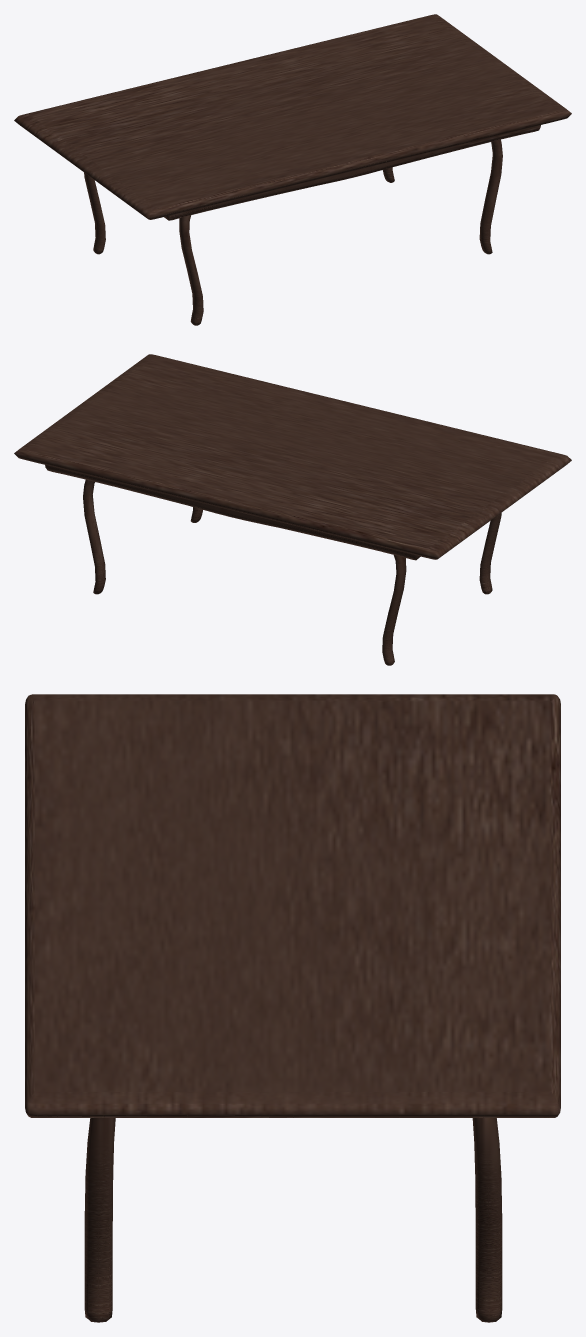
File: _finalCoffeeTable.fbx
3 renders of one model, top to bottom at view 1: azimuth 30°, elevation 25°; view 2: azimuth 150°, elevation 25°; view 3: azimuth 270°, elevation 25°, orthographic. The views are drawn at different scales.
Visible parts, largest first — view 1: Table; view 2: Table; view 3: Table.
Part boxes in pixels (left/top/right/bottom): Table: left=14, top=14, right=571, bottom=325; Table: left=14, top=354, right=571, bottom=665; Table: left=25, top=694, right=560, bottom=1322.
Bounding box in the file's own units: 470 × 149 × 256.
1 material, 1 textured.
